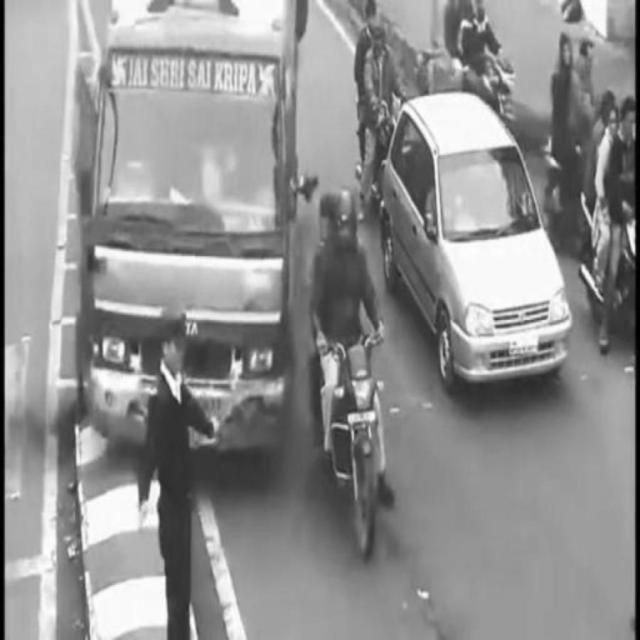person: (134, 305, 212, 640)
vehicle: (81, 2, 289, 456), (383, 96, 568, 388), (312, 192, 393, 559), (351, 3, 418, 198)
